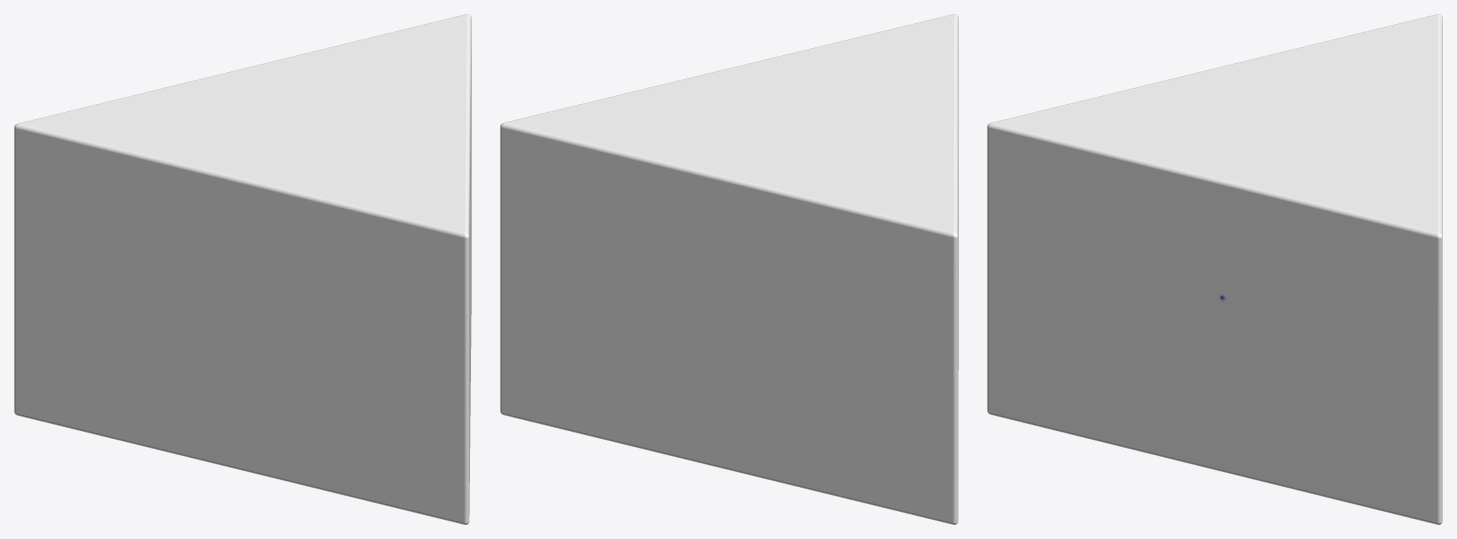
The model's file is Prism.fbx.
3 views of the same model, side by side, from view 1: azimuth 30°, elevation 25°; view 2: azimuth 150°, elevation 25°; view 3: azimuth 270°, elevation 25° (orthographic).
Parts seen in each view (by area): view 1: node_id29; view 2: node_id29; view 3: node_id29.
Boxes of the visible parts, left/top/right/bottom form: node_id29: left=14, top=14, right=471, bottom=524; node_id29: left=500, top=14, right=958, bottom=524; node_id29: left=987, top=14, right=1442, bottom=524.
Size of the model in its own units: 0.512 by 0.3132 by 0.4426.
Materials: 1 (1 with a texture image).
